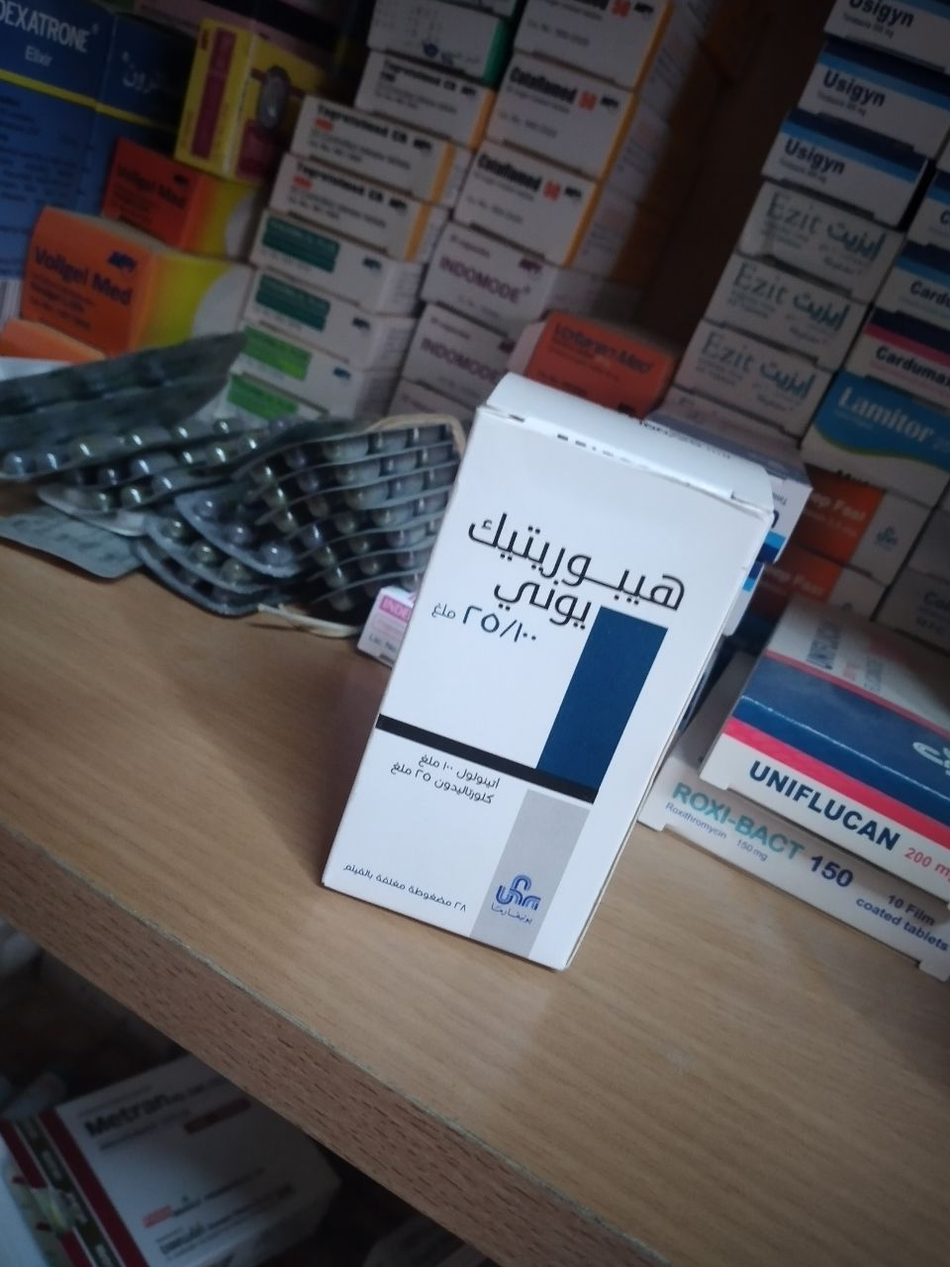Medicine: (303, 370, 805, 987), (726, 584, 950, 917)
